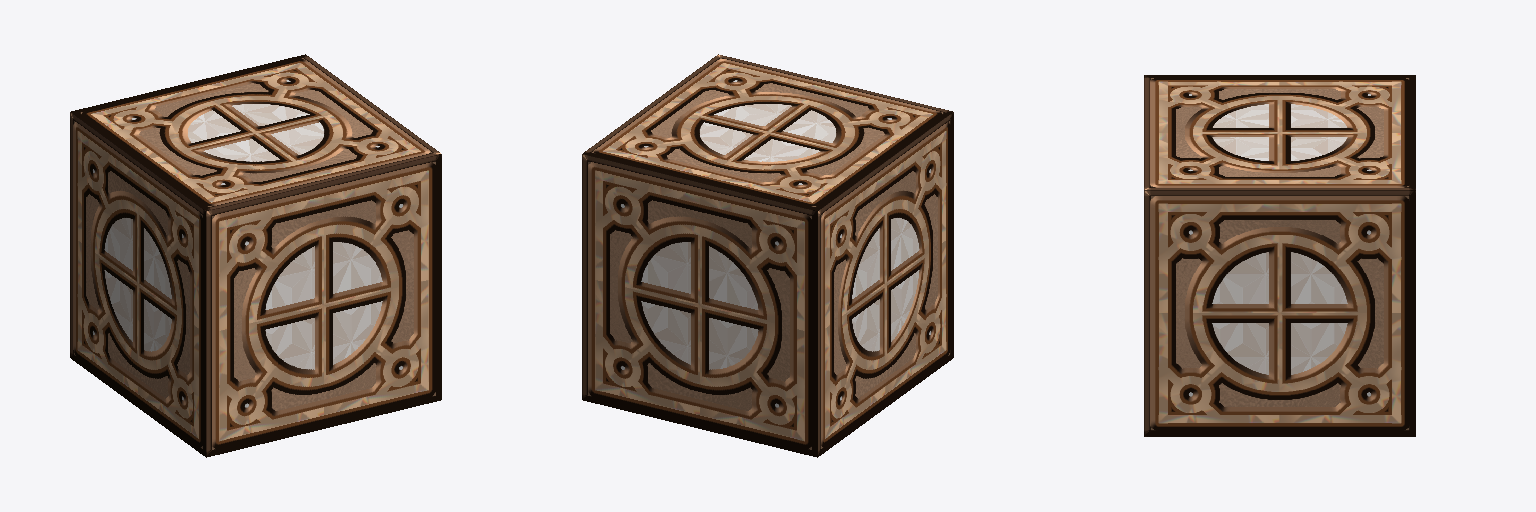
The picture shows the model from 3 angles: view 1: azimuth 30°, elevation 25°; view 2: azimuth 150°, elevation 25°; view 3: azimuth 270°, elevation 25°; orthographic projection.
Visible parts, largest first — view 1: Cube; view 2: Cube; view 3: Cube.
Part boxes in pixels (bbox=[...]): Cube: bbox=[70, 54, 441, 457]; Cube: bbox=[582, 54, 953, 457]; Cube: bbox=[1144, 75, 1415, 436].
Bounding box in the file's own units: 2 × 2 × 2.
2 materials, 1 textured.